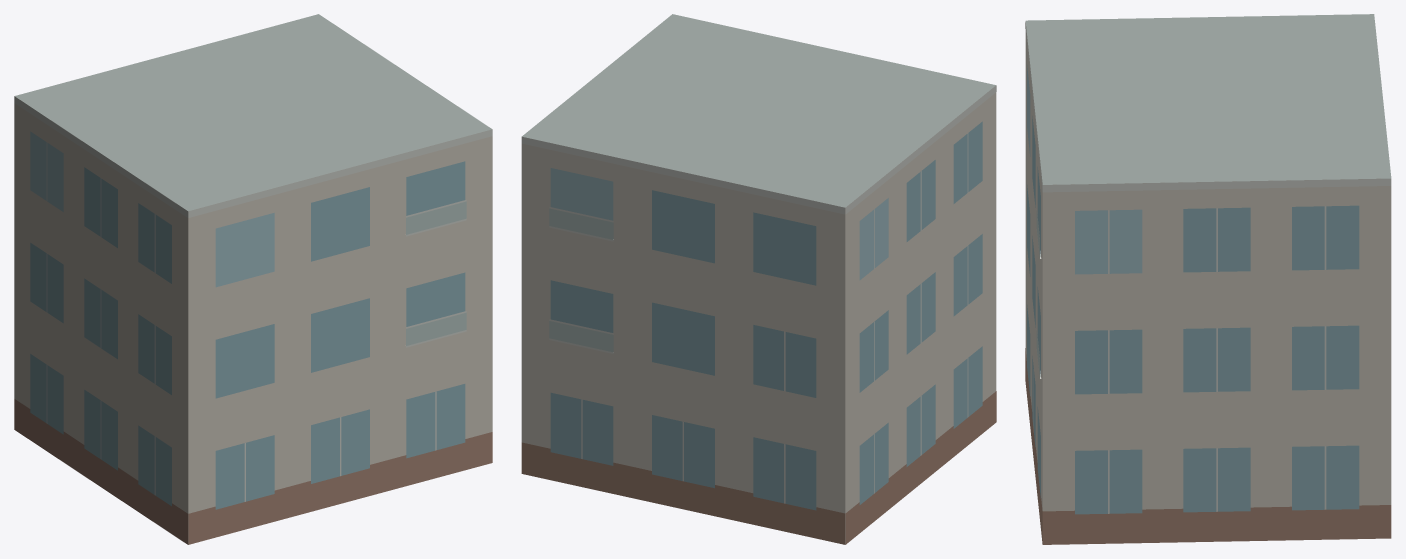
File: survey-upis-32908744.glb
The picture shows the model from 3 angles, left to right: view 1: azimuth 30°, elevation 25°; view 2: azimuth 150°, elevation 25°; view 3: azimuth 270°, elevation 25°; orthographic projection. The views are drawn at different scales.
Visible parts, largest first — view 1: survey-upis-32908744.tmp; view 2: survey-upis-32908744.tmp; view 3: survey-upis-32908744.tmp.
Part boxes in pixels (<box>): survey-upis-32908744.tmp: <box>14,14,492,544</box>; survey-upis-32908744.tmp: <box>521,14,996,544</box>; survey-upis-32908744.tmp: <box>1025,14,1391,544</box>.
Size of the model in its own units: 12.13 by 11.9 by 10.98.
